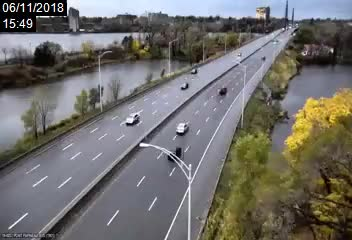personal_car: (163, 145, 185, 163), (173, 120, 191, 136), (124, 112, 140, 125), (215, 86, 229, 96), (179, 80, 188, 89), (189, 68, 198, 74)
